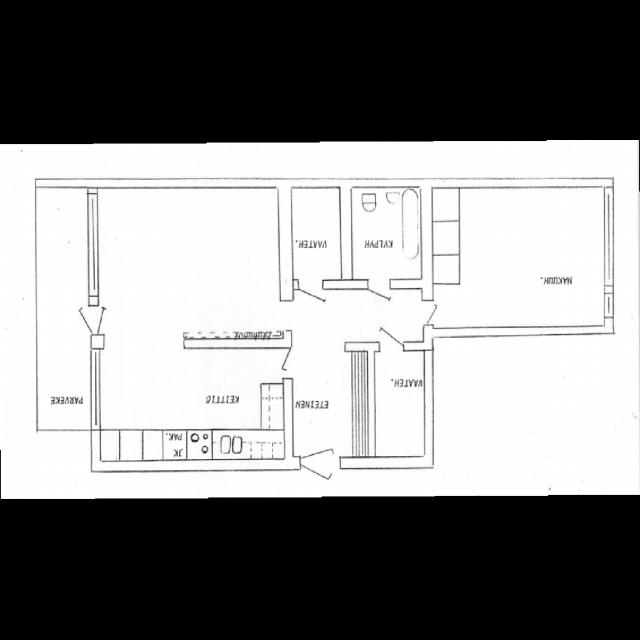door: (300, 458, 334, 508), (300, 420, 333, 470), (64, 304, 100, 334), (90, 304, 126, 334), (298, 279, 323, 318), (260, 350, 293, 378), (379, 314, 403, 351), (368, 279, 391, 316), (423, 300, 454, 324)
